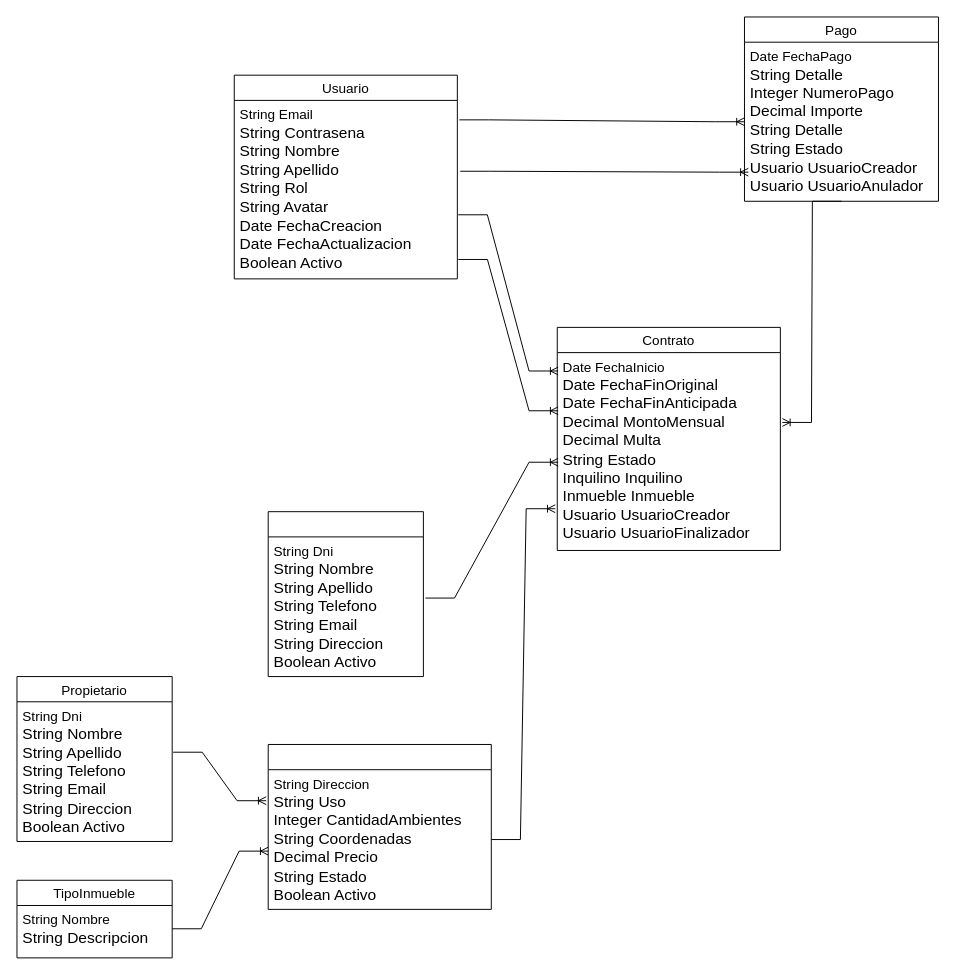
Image size: 955x978. Some labels were removed from this diagram. The shapes that lost their labels are listed below. From the top down, each one's box as (x1, y1, x2, y2) in pixels, then its label:
(267, 511, 423, 677): Inquilino
(267, 744, 491, 909): Inmueble
